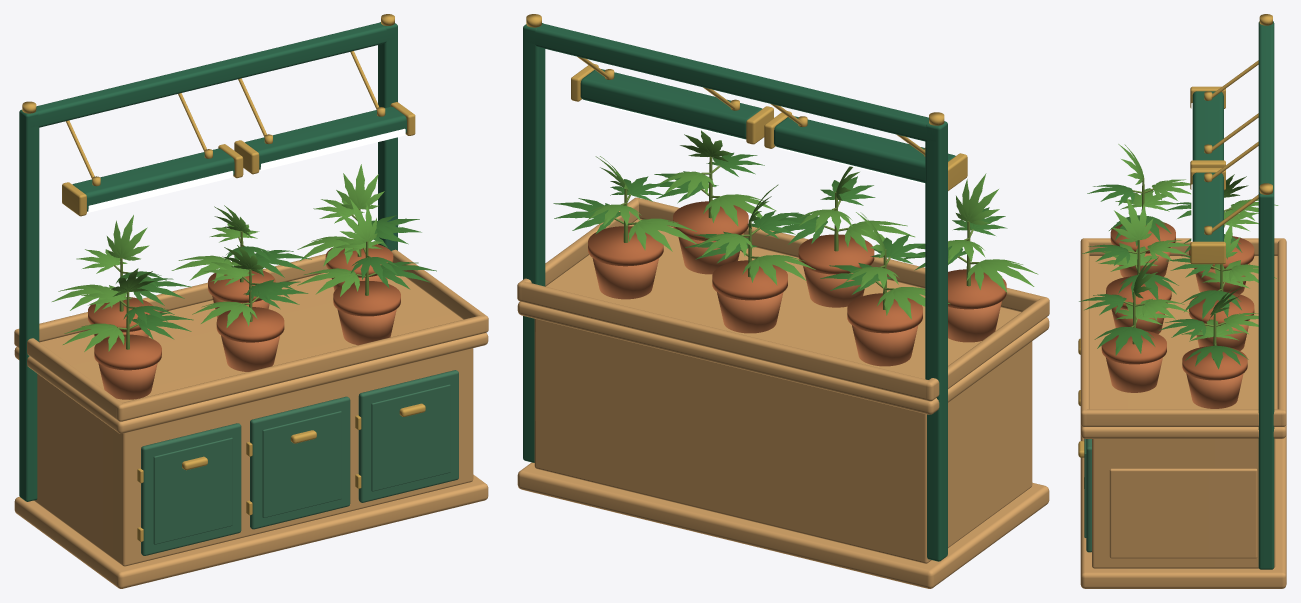
Rendered from grow_bench_tier1.glb.
3 renders of one model, left to right at view 1: azimuth 30°, elevation 25°; view 2: azimuth 150°, elevation 25°; view 3: azimuth 270°, elevation 25°, orthographic. The views are drawn at different scales.
Parts seen in each view (by area): view 1: Body, Top, Plinth, Beam, Post-1, Lip1, DrawerInset2, DrawerInset1, DrawerInset0, Drawer1, Drawer2, Drawer0 (+30 smaller); view 2: Body, Top, Plinth, Beam, Post-1, Lip0, Post1, LightBar0.43, LightBar-0.43, Lip1, Lip3, P4Rim (+25 smaller); view 3: EndPanel, Top, Body, Plinth, Post1, Lip2, Beam, LightBar-0.43, LightBar0.43, Lip0, Lip1, P2Rim (+40 smaller).
Boxes of the visible parts, x1,y1,x2,y2 form: Body: [34, 348, 473, 566]; Top: [14, 272, 488, 433]; Plinth: [14, 474, 488, 588]; Beam: [30, 22, 394, 127]; Post-1: [19, 109, 39, 501]; Lip1: [116, 315, 488, 420]; DrawerInset2: [371, 384, 450, 491]; DrawerInset1: [262, 411, 341, 517]; DrawerInset0: [153, 437, 232, 544]; Drawer1: [250, 396, 350, 529]; Drawer2: [358, 370, 458, 502]; Drawer0: [141, 423, 241, 555]; Body: [534, 319, 1032, 563]; Top: [517, 219, 1049, 414]; Plinth: [517, 462, 1049, 588]; Beam: [526, 23, 935, 141]; Post-1: [925, 121, 947, 561]; Lip0: [517, 282, 934, 400]; Post1: [523, 23, 545, 462]; LightBar0.43: [580, 69, 762, 139]; LightBar-0.43: [774, 116, 955, 182]; Lip1: [637, 198, 1049, 315]; Lip3: [926, 297, 1049, 401]; P4Rim: [798, 234, 874, 274]; EndPanel: [1109, 468, 1257, 558]; Top: [1080, 256, 1286, 438]; Body: [1092, 439, 1275, 568]; Plinth: [1080, 435, 1286, 588]; Post1: [1258, 190, 1274, 569]; Lip2: [1080, 409, 1286, 426]; Beam: [1258, 25, 1274, 191]; LightBar-0.43: [1192, 91, 1223, 160]; LightBar0.43: [1192, 172, 1223, 241]; Lip0: [1277, 239, 1286, 426]; Lip1: [1080, 239, 1089, 426]; P2Rim: [1182, 346, 1247, 380].
Size of the model in its own units: 1.96 by 1.98 by 0.93.
